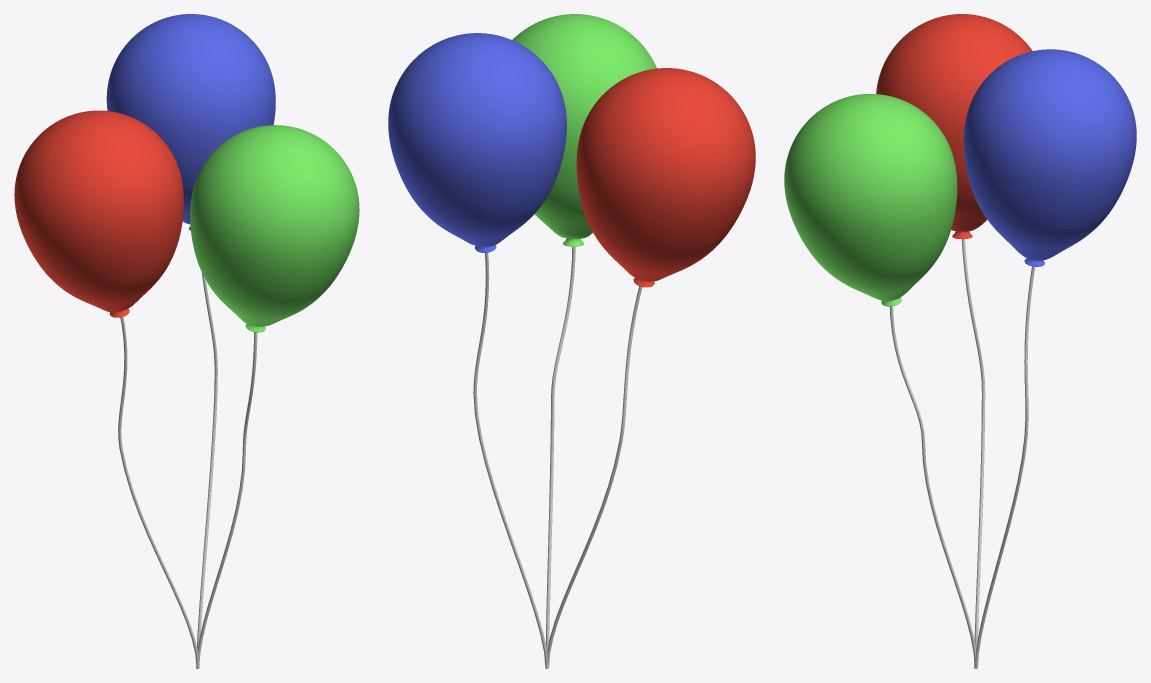
File: Three_Balloons.fbx
3 views of the same model, side by side, from view 1: azimuth 30°, elevation 25°; view 2: azimuth 150°, elevation 25°; view 3: azimuth 270°, elevation 25° (orthographic). The views are drawn at different scales.
Parts seen in each view (by area): view 1: Sphere.002, Sphere.003, Sphere.001, BezierCurve.001, BezierCurve.002, BezierCurve.003; view 2: Sphere.002, Sphere.001, Sphere.003, BezierCurve.001, BezierCurve.003, BezierCurve.002; view 3: Sphere.001, Sphere.003, Sphere.002, BezierCurve.002, BezierCurve.001, BezierCurve.003.
Part boxes in pixels (<box>): Sphere.002: <box>14,110,183,317</box>; Sphere.003: <box>190,125,359,332</box>; Sphere.001: <box>106,14,275,230</box>; BezierCurve.001: <box>197,272,217,648</box>; BezierCurve.002: <box>118,317,199,668</box>; BezierCurve.003: <box>196,332,257,668</box>; Sphere.002: <box>576,68,755,287</box>; Sphere.001: <box>388,33,566,252</box>; Sphere.003: <box>512,14,656,246</box>; BezierCurve.001: <box>473,252,547,668</box>; BezierCurve.003: <box>545,246,575,668</box>; BezierCurve.002: <box>547,286,642,666</box>; Sphere.001: <box>963,49,1136,266</box>; Sphere.003: <box>784,94,957,306</box>; Sphere.002: <box>876,14,1032,239</box>; BezierCurve.002: <box>961,239,985,668</box>; BezierCurve.001: <box>975,266,1035,668</box>; BezierCurve.003: <box>889,306,976,665</box>.
Size of the model in its own units: 380 by 790 by 403.
